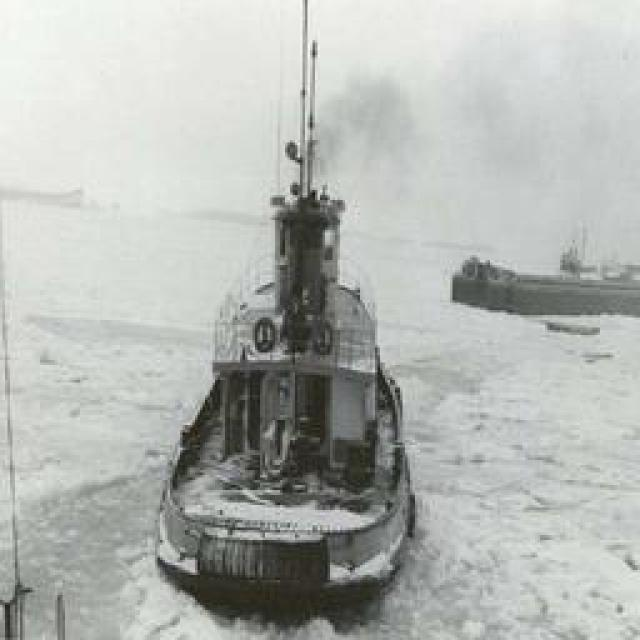Ship: (159, 126, 409, 619)
